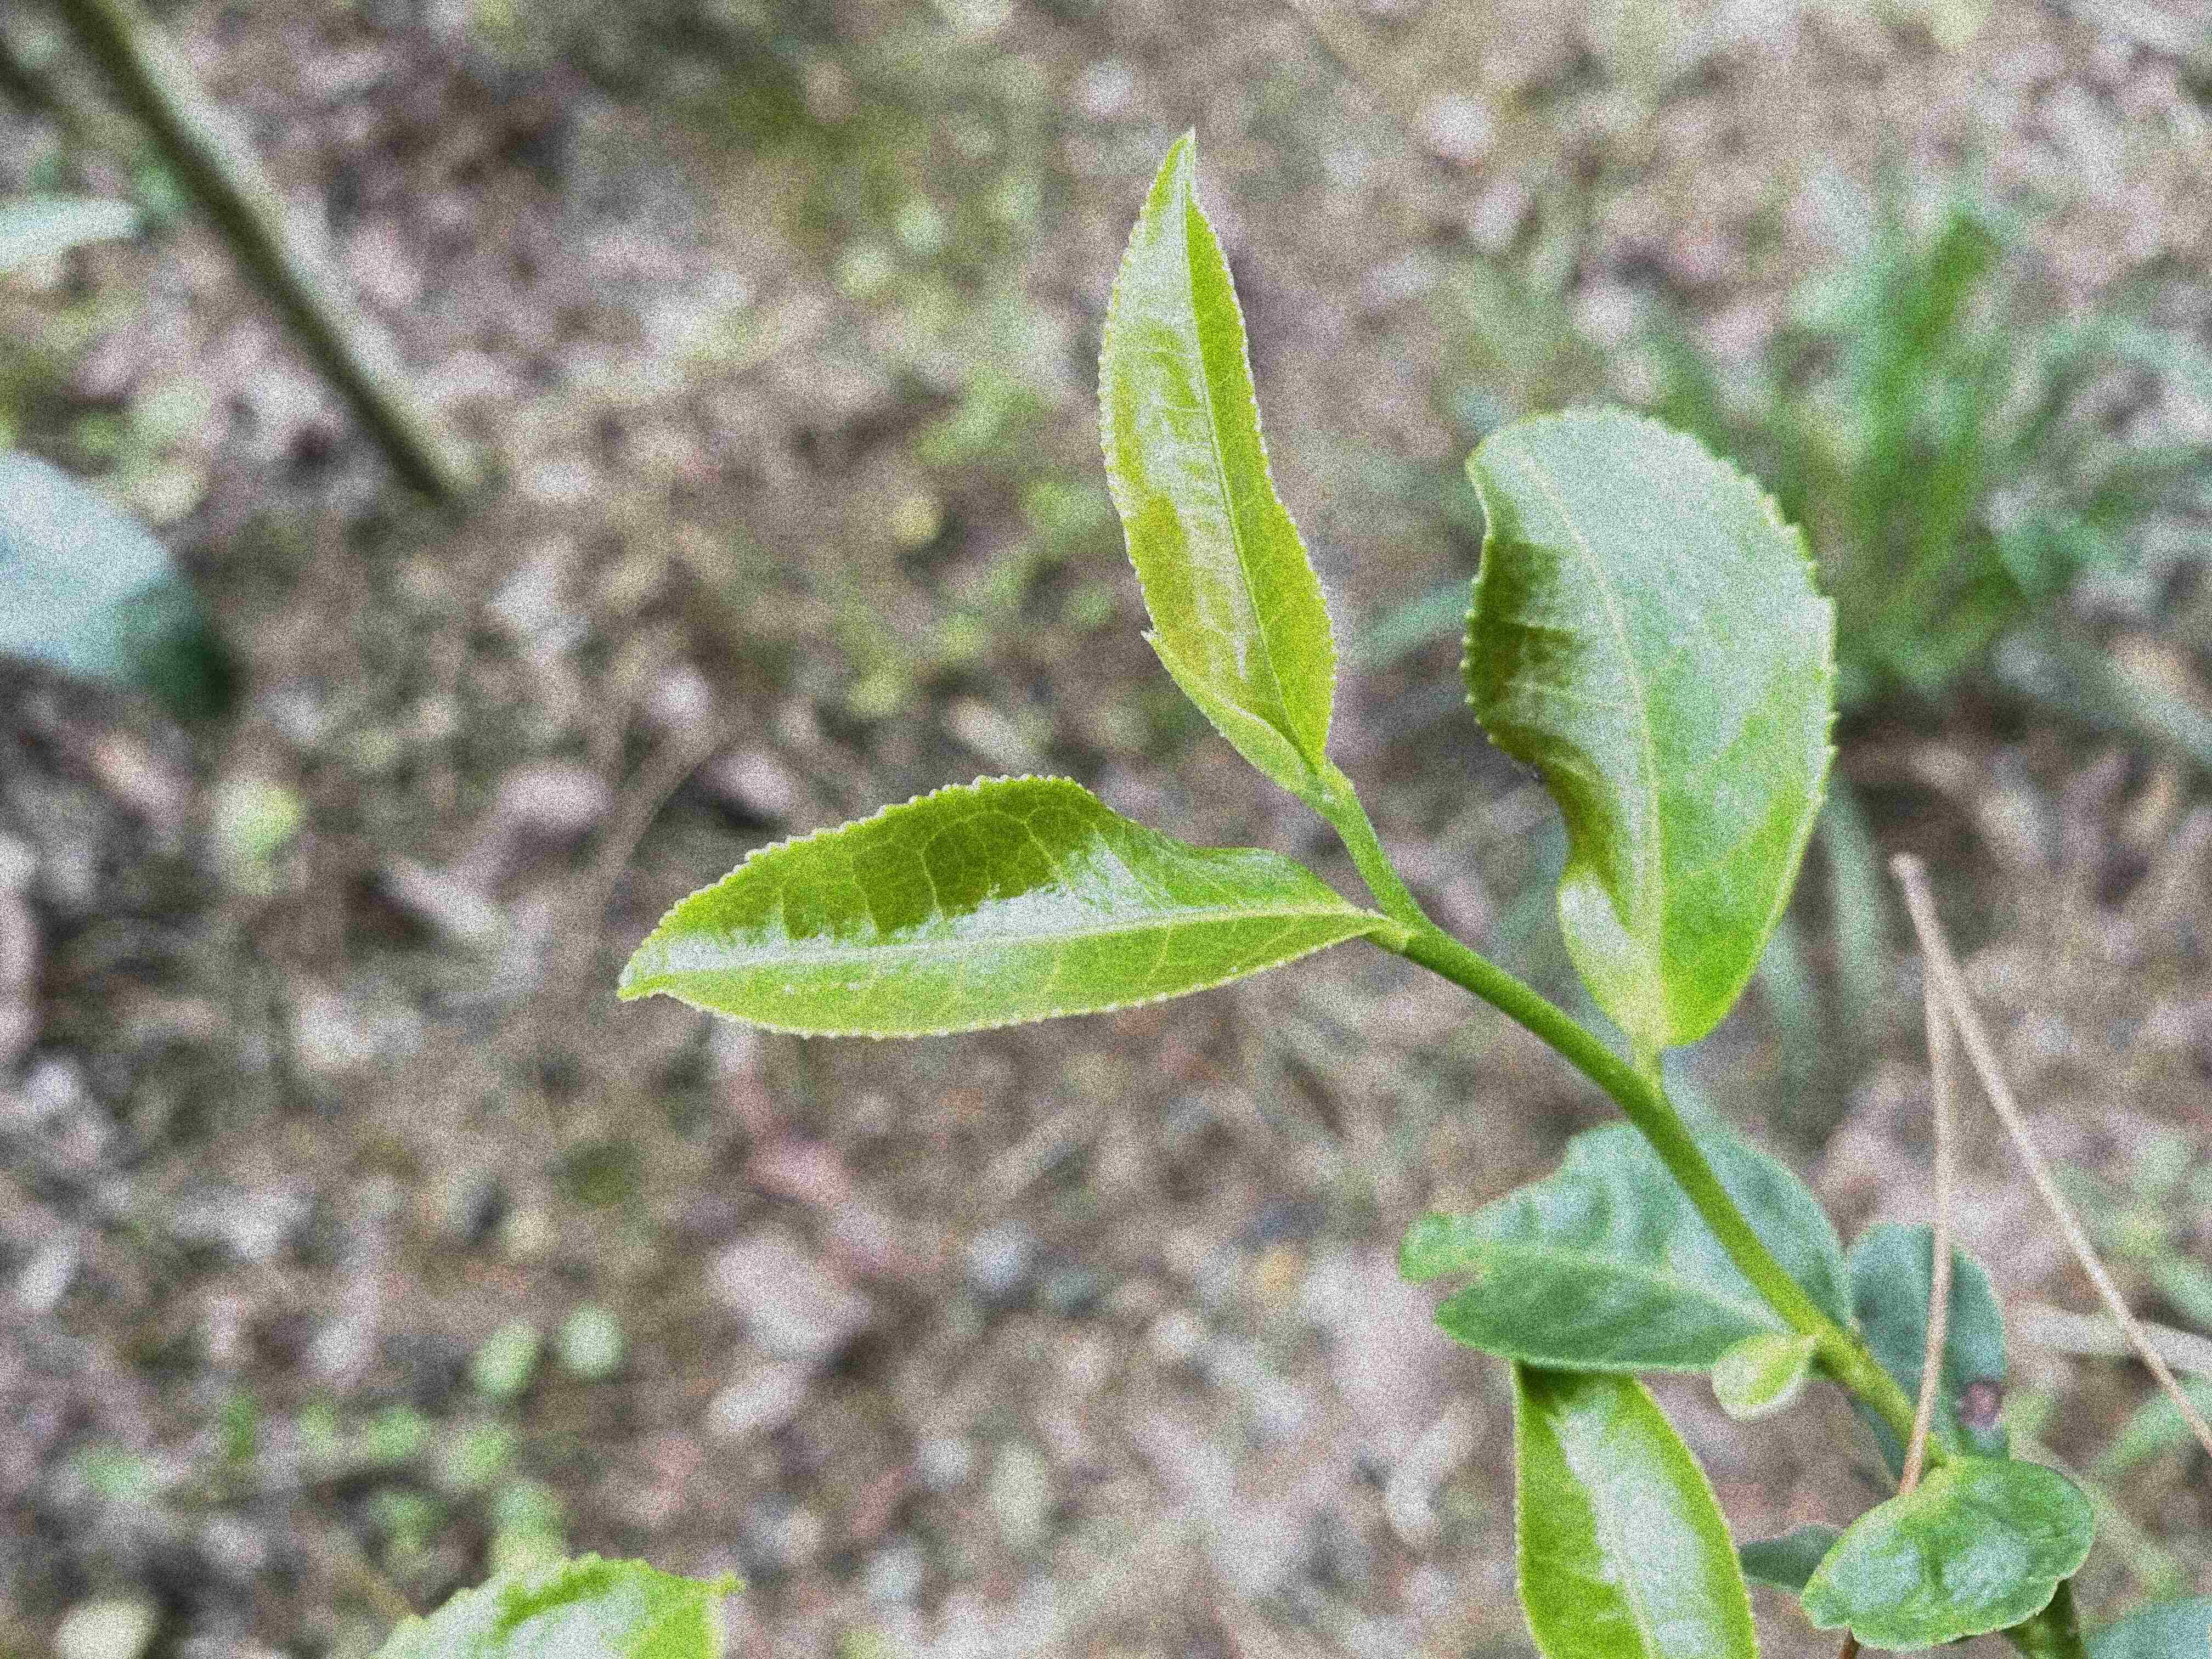chihuo_high: (1397, 1115, 1851, 1371)
healthy: (1451, 399, 1844, 1047), (613, 767, 1379, 1046), (1092, 127, 1341, 756), (1507, 1356, 1766, 1657)
tanju_high: (1848, 1213, 2015, 1495)
